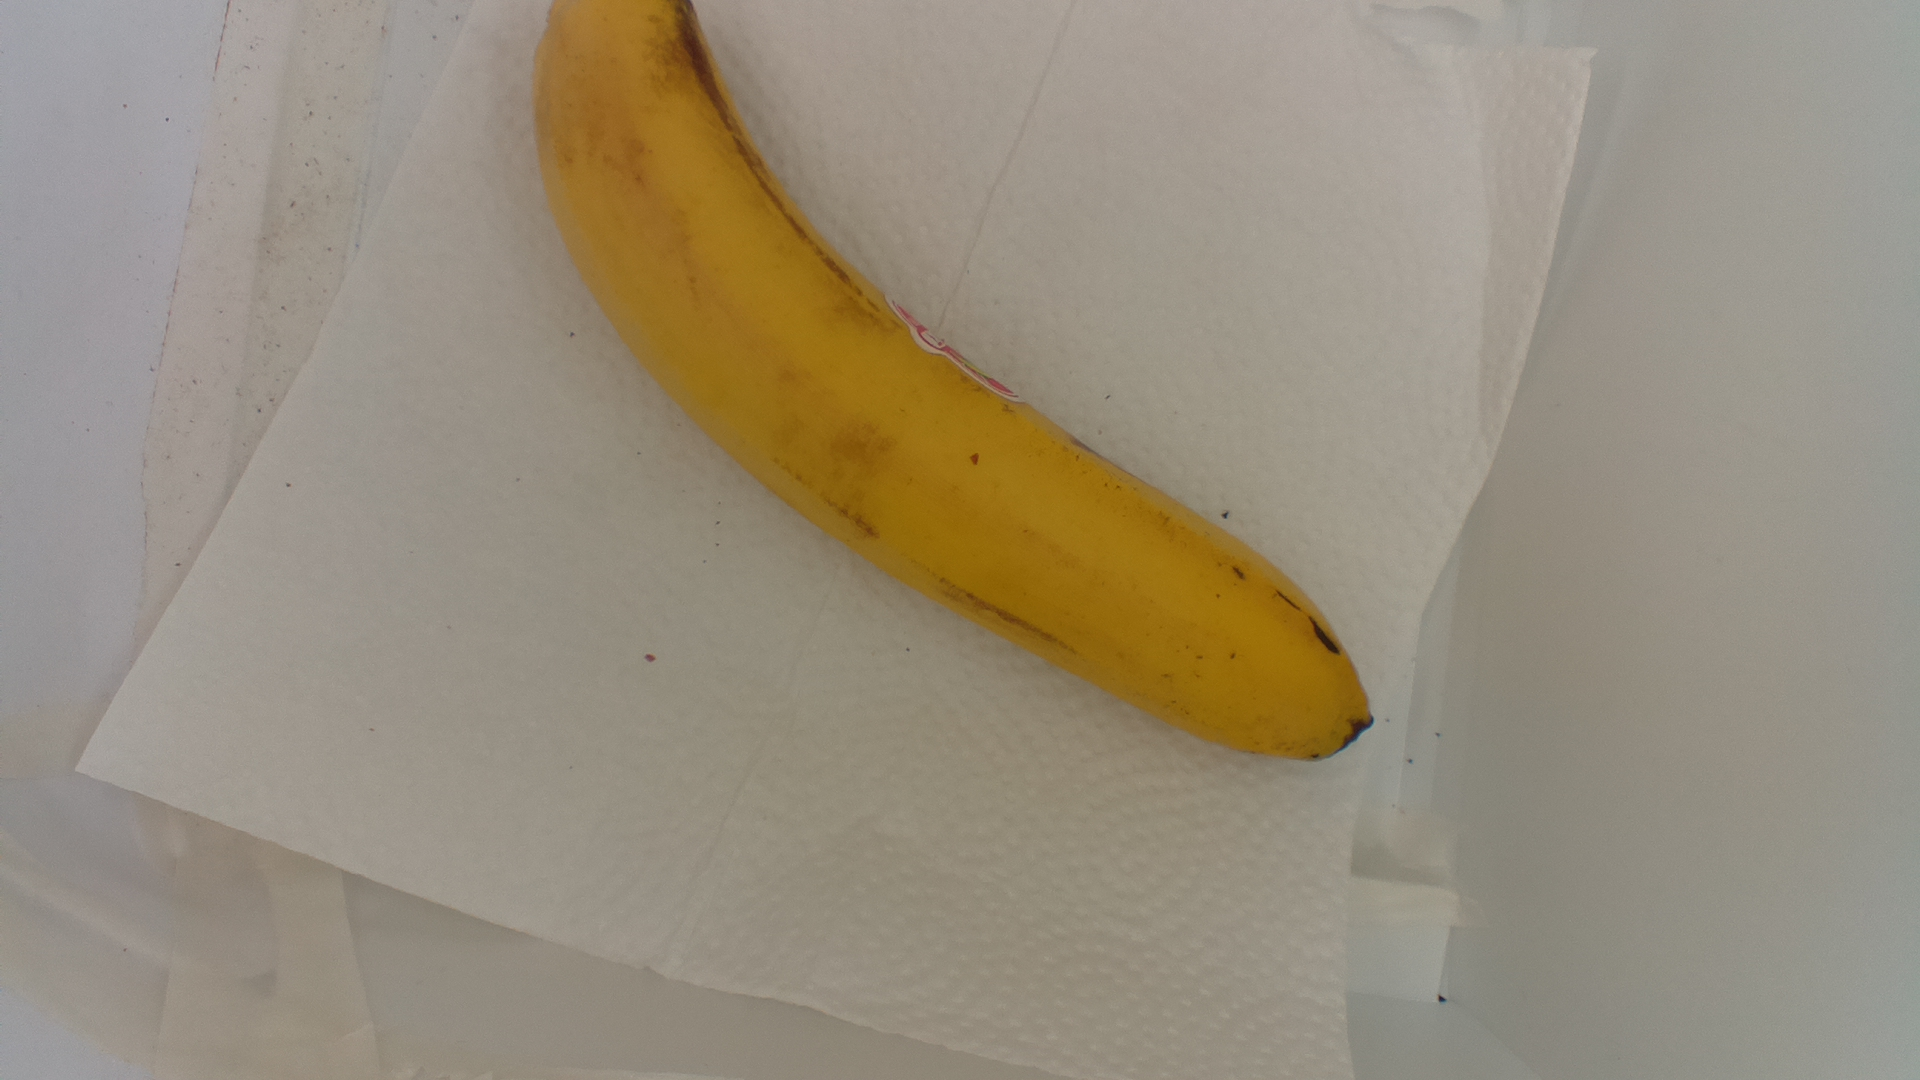fruit: (524, 1, 1375, 765)
